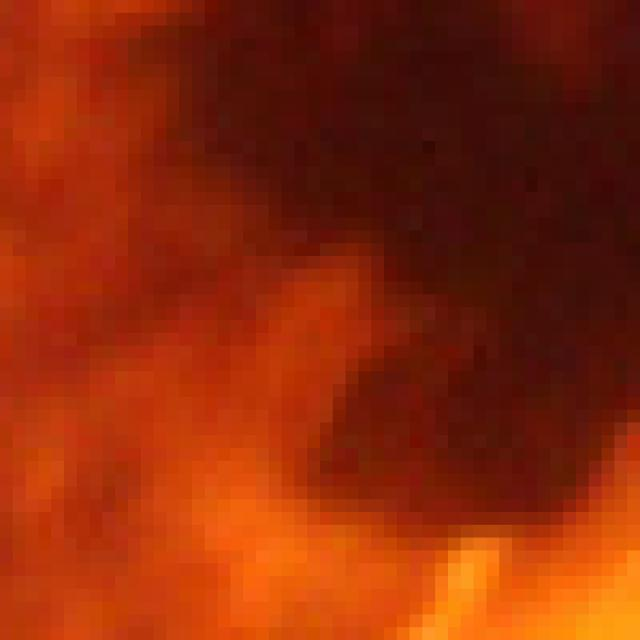fire: (0, 21, 630, 640)
